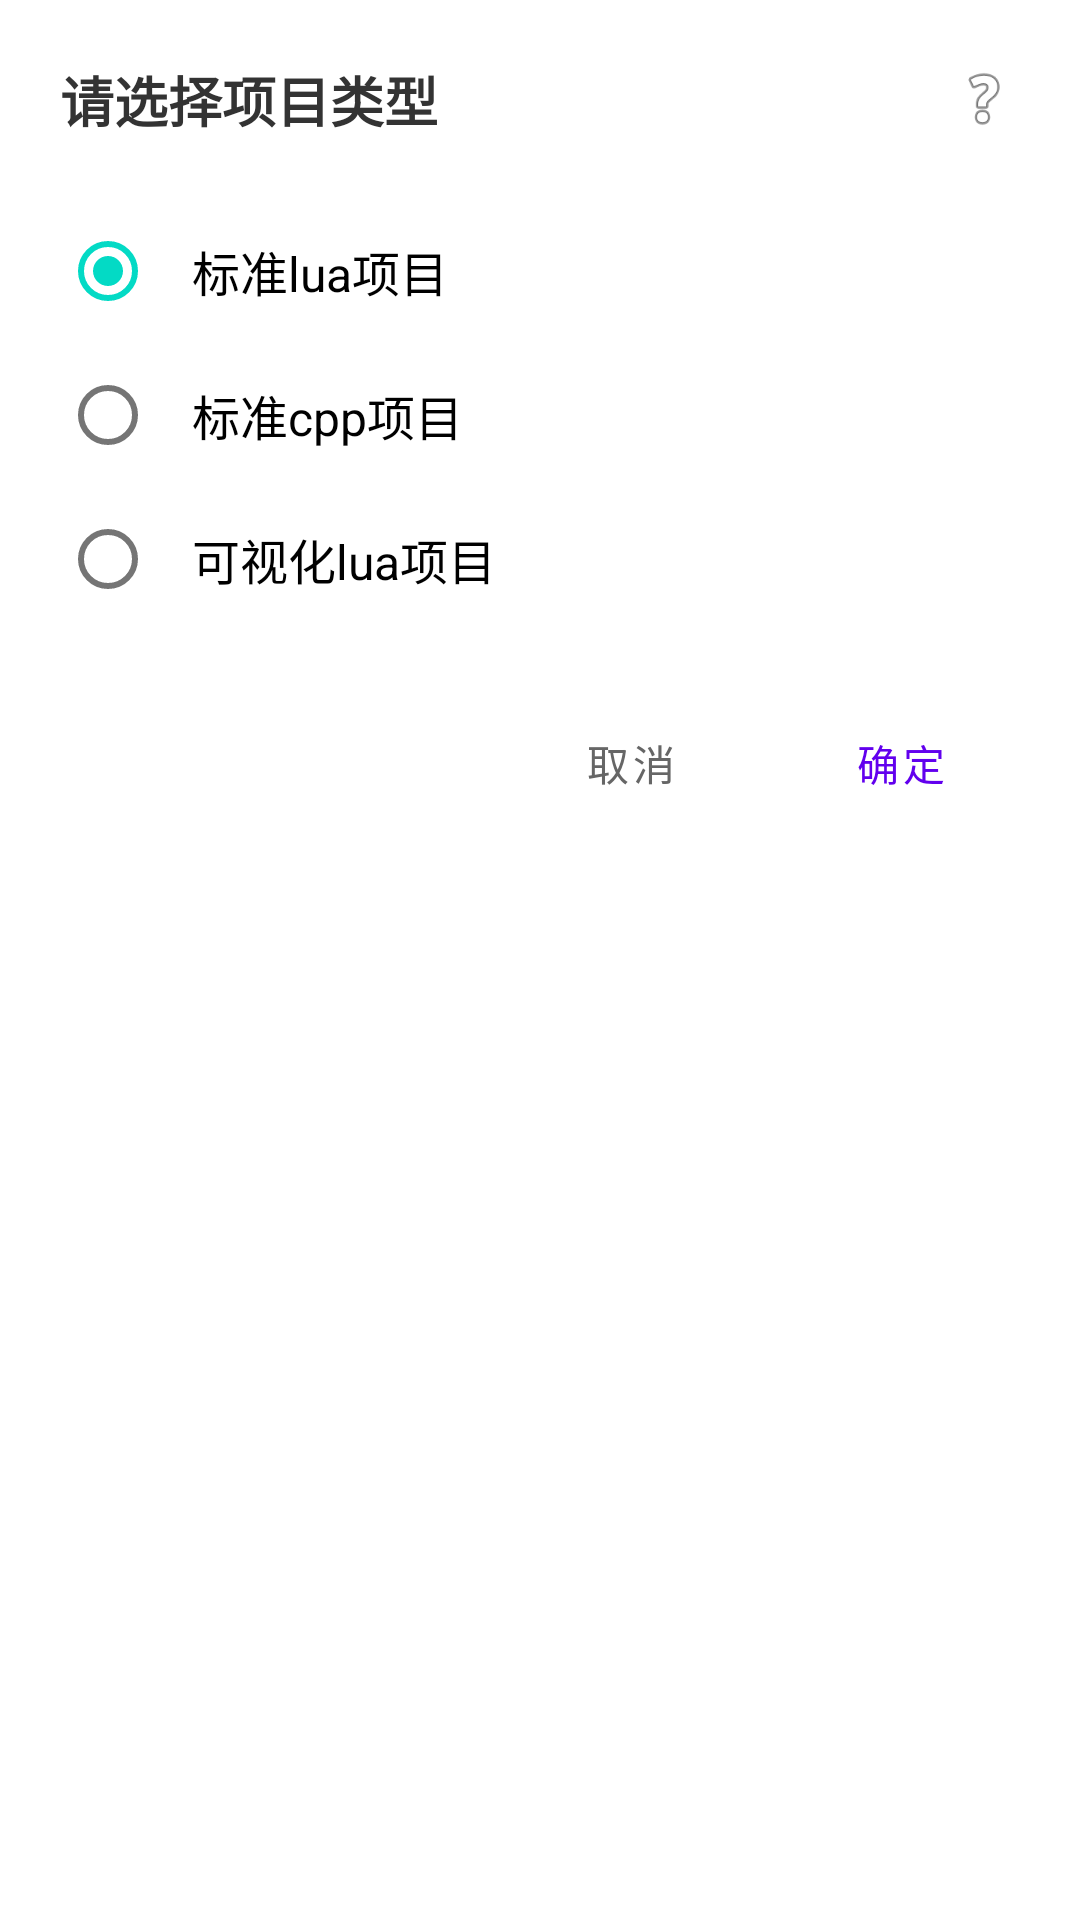

Icons on this 1080 x 1920 Android screen, each with the point to tap as (x=x, y=y):
help: (x=984, y=99)
